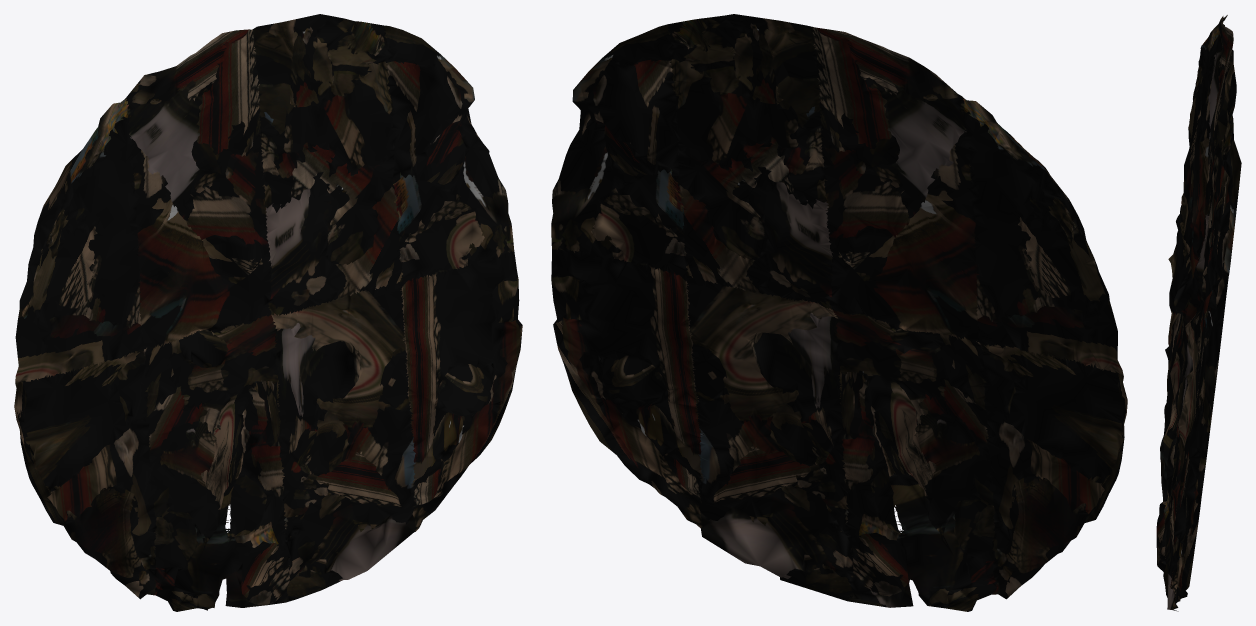
The model's file is pizza_low.fbx.
3 views of the same model, side by side, from view 1: azimuth 30°, elevation 25°; view 2: azimuth 150°, elevation 25°; view 3: azimuth 270°, elevation 25° (orthographic). The views are drawn at different scales.
Parts seen in each view (by area): view 1: mainMeshNode; view 2: mainMeshNode; view 3: mainMeshNode.
Boxes of the visible parts, x1,y1,x2,y2 form: mainMeshNode: (14,14,522,611); mainMeshNode: (551,14,1127,611); mainMeshNode: (1156,15,1241,611).
Bounding box in the file's own units: 2.02 × 2.06 × 0.2967.
